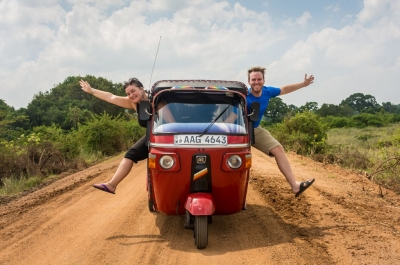tuk tuk: (147, 79, 254, 250)
